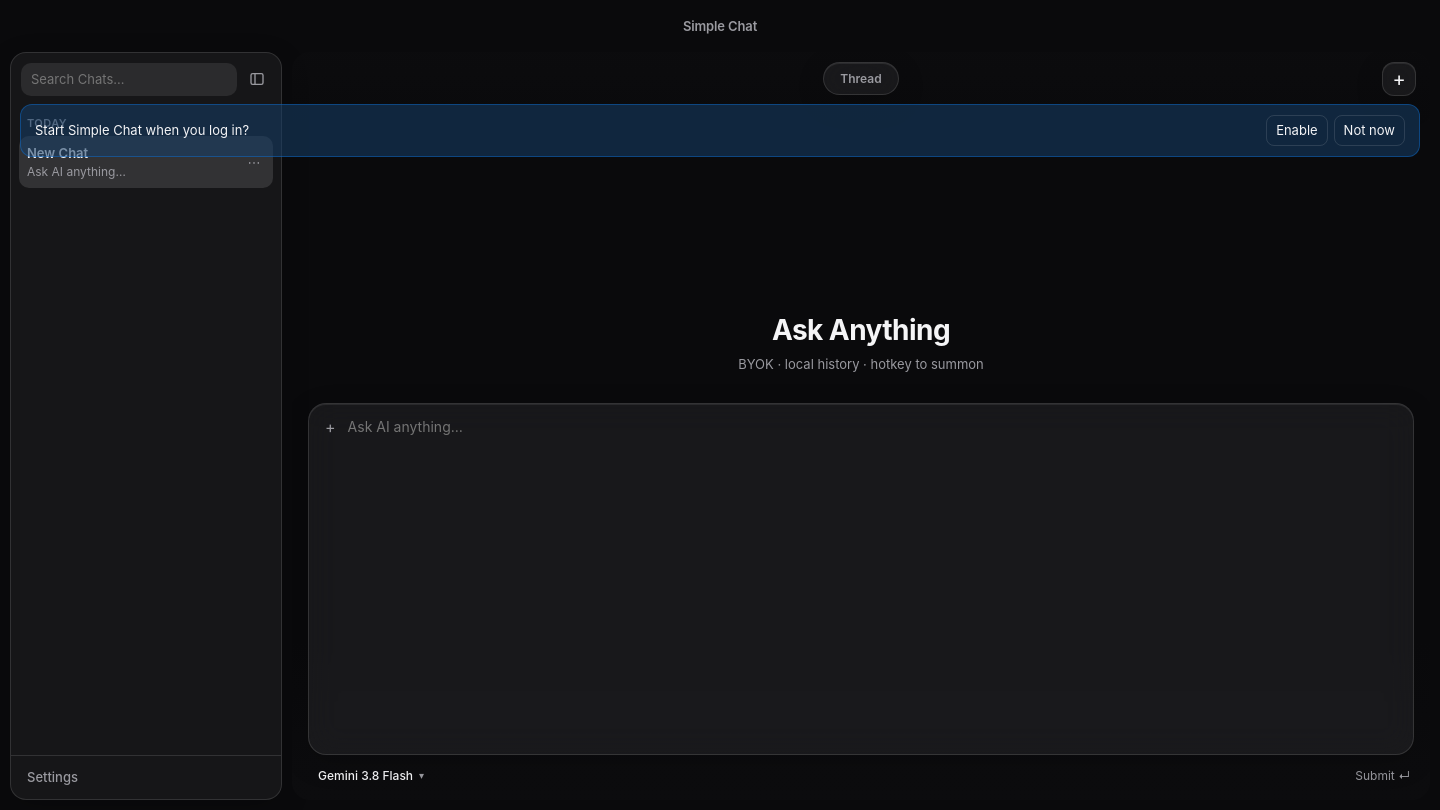
it: App UX › Settings login-item toggle dismisses the first-run prompt
Expected: the text "Start Simple Chat when you log in?" is shown, [35,121,249,140]
Click the button "Settings": [52, 777] box [11,755,281,799]
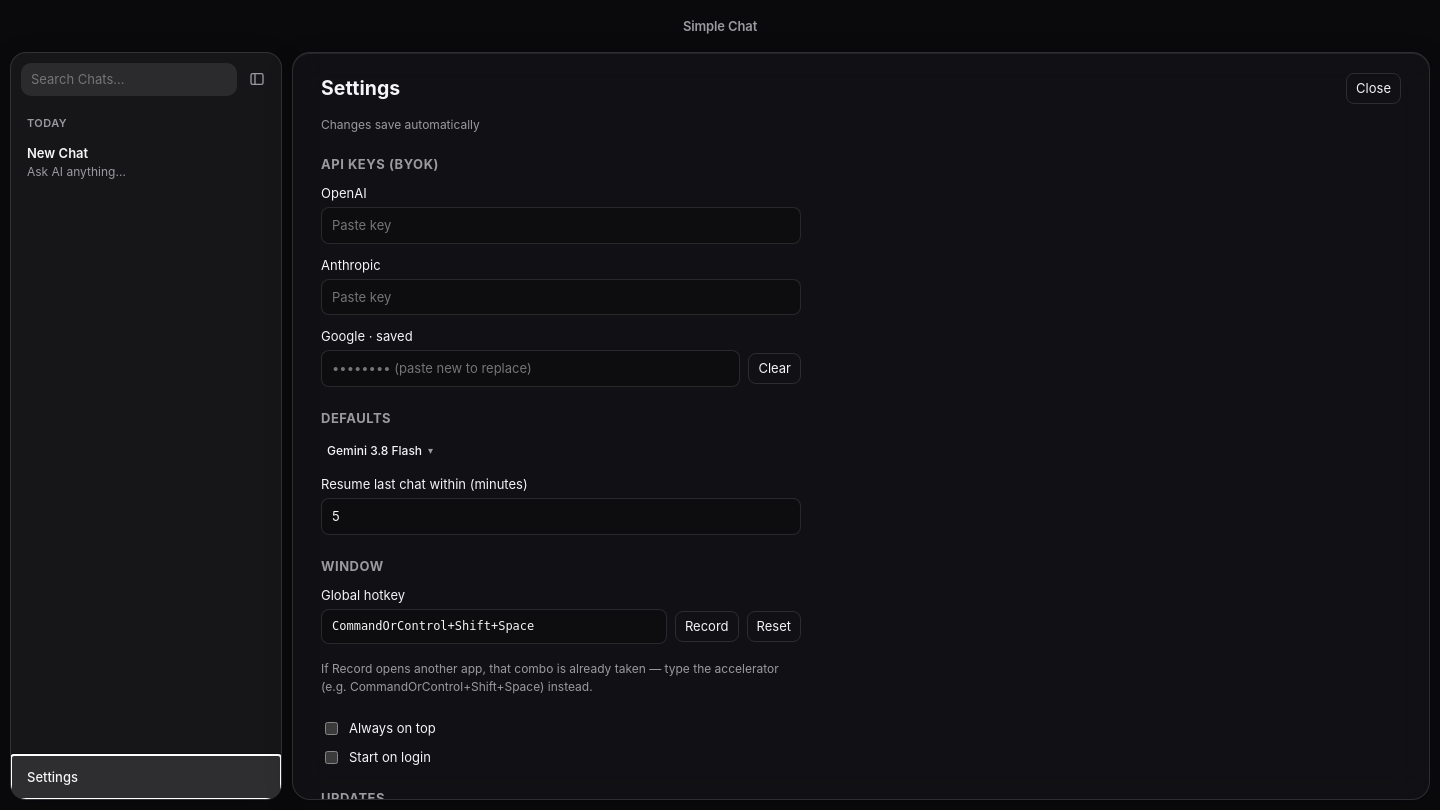
Result: the checkbox labelled "Start on login" is enabled
Click the checkbox labelled "Start on login": [332, 757] box [325,751,338,764]
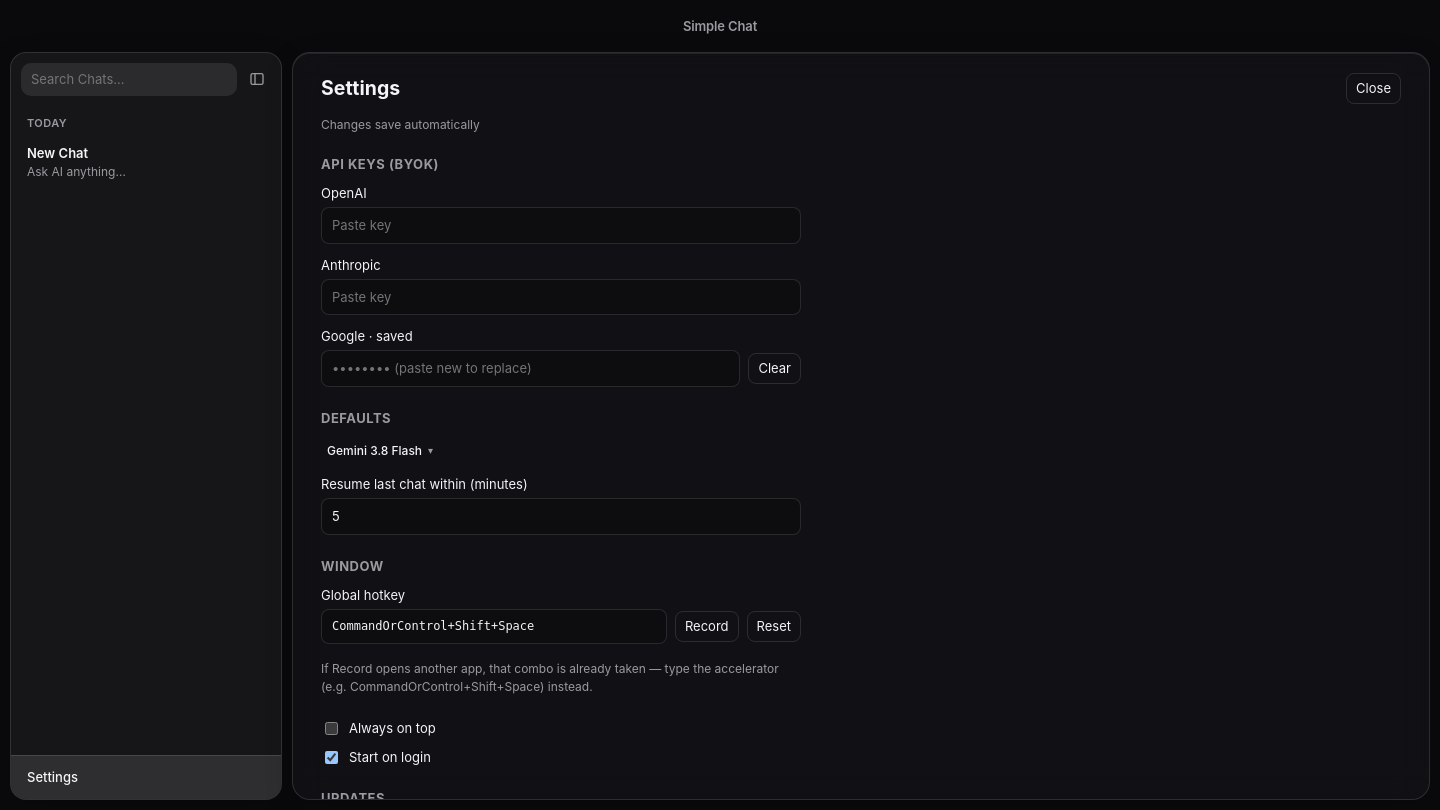
Click the button "Close": [1374, 88] box [1346,73,1401,104]
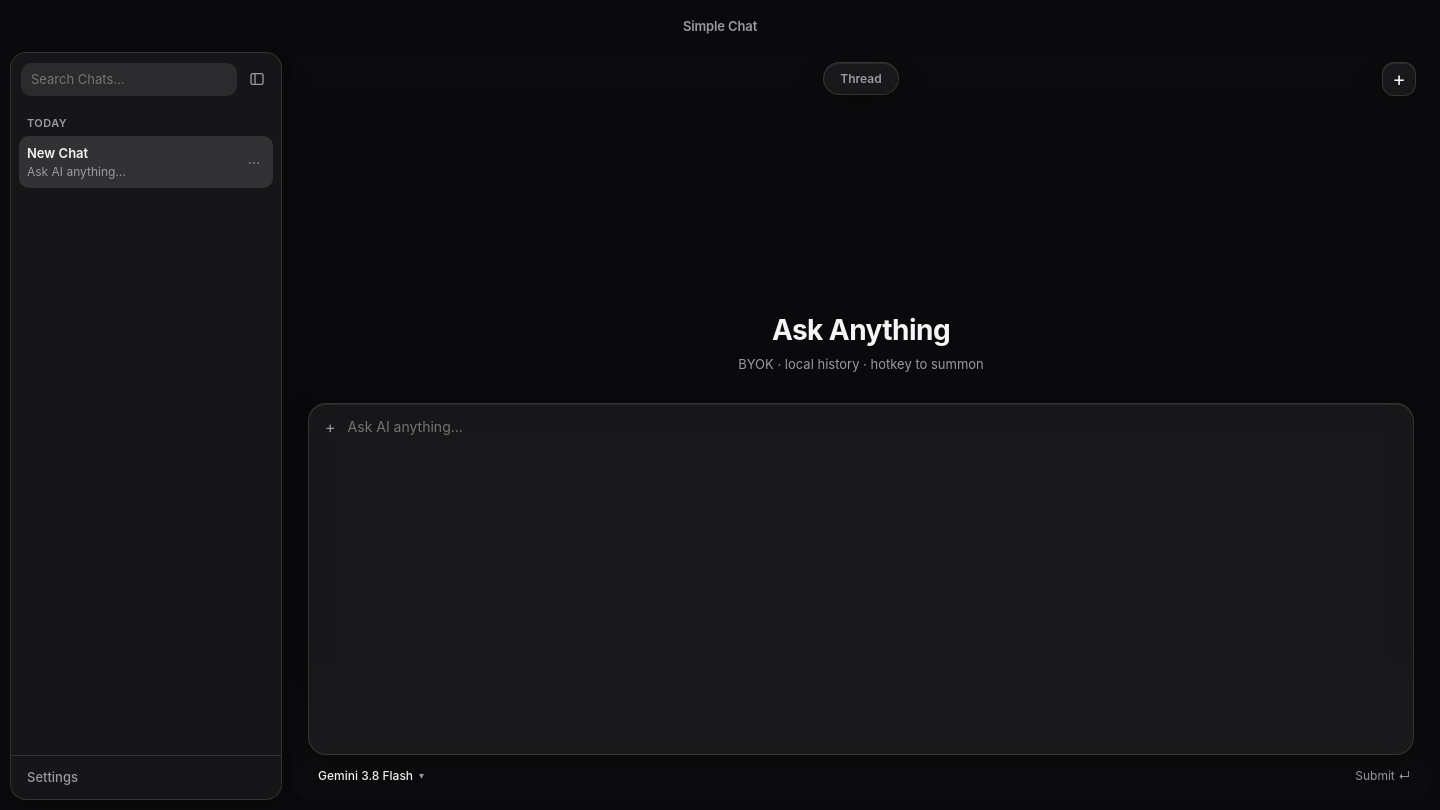
Expected: the text "Start Simple Chat when you log in?" is not shown
Result: the heading "Ask Anything" is shown at [772,313,950,347]
